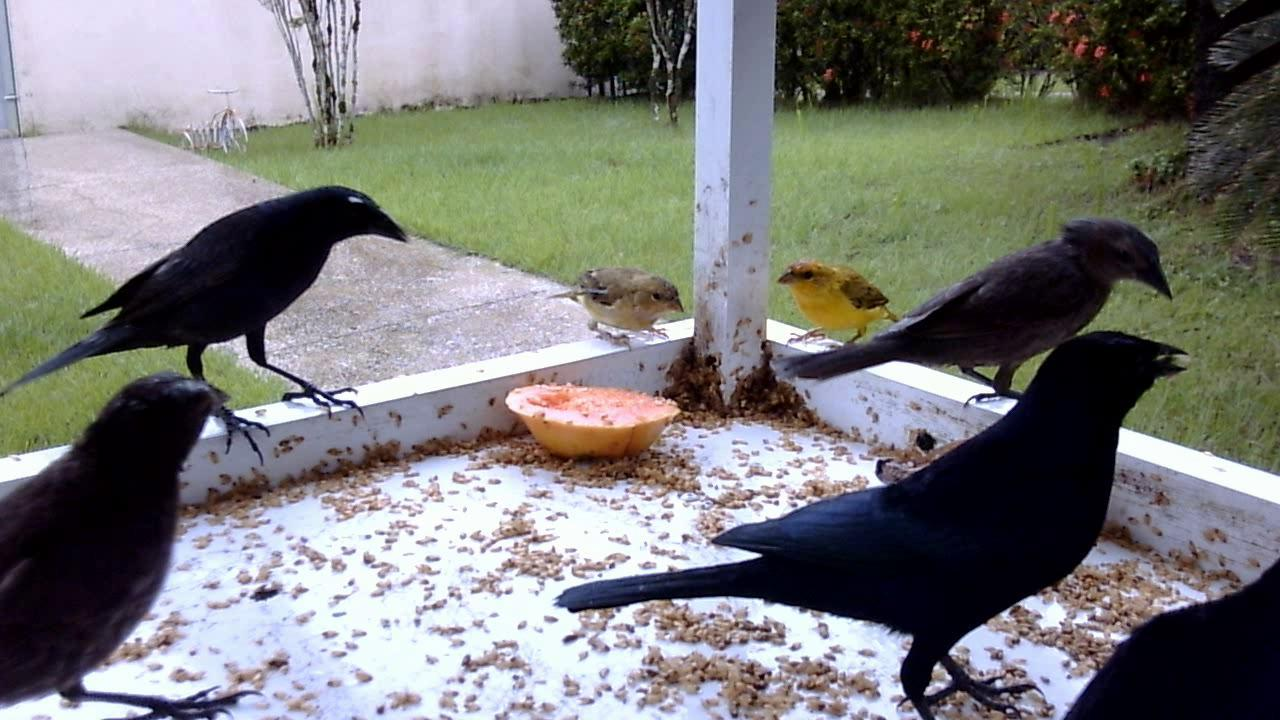canario_do_amazonas: (543, 259, 688, 349), (767, 252, 901, 348)
chupim: (545, 310, 1202, 708), (11, 167, 420, 497), (1, 354, 279, 720), (777, 217, 1171, 425), (1068, 558, 1280, 720)
